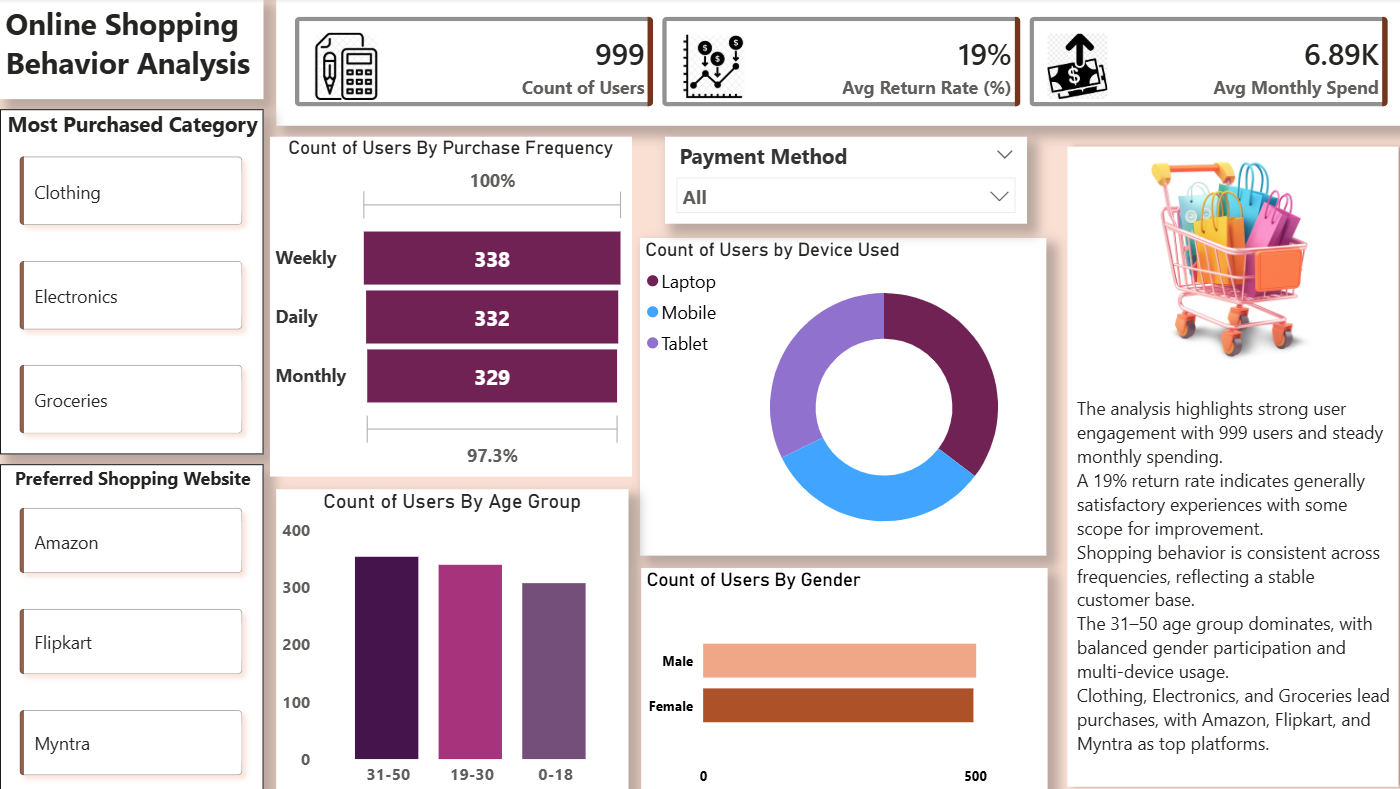

Layout of this report page (visuals, bound fields, positions):
{"tool":"powerbi","page":{"name":"Page 1","canvas":[1280,720],"ordinal":0},"visuals":[{"type":"textbox","box":[0,0,237.5,91.2],"z":0},{"type":"cardVisual","fields":{"Data":["CountNonNull(shoppingdata.User ID)","Avg(shoppingdata.Return Rate (%))","Avg(shoppingdata.Avg Spend Clean)"]},"box":[248.8,0,1021.2,115],"z":1000},{"type":"advancedSlicerVisual","fields":{"Values":["shoppingdata.Most Purchased Category"]},"box":[0,100,237.5,311.2],"z":2000},{"type":"advancedSlicerVisual","fields":{"Values":["shoppingdata.Preferred Shopping Website"]},"box":[0,420,237.5,300],"z":3000},{"type":"donutChart","title":" Device Used By Users","fields":{"Category":["shoppingdata.Device Used"],"Y":["CountNonNull(shoppingdata.User ID)"]},"box":[577.5,216.2,366.2,286.2],"z":4000},{"type":"clusteredColumnChart","title":" Age Group Of Users","fields":{"Category":["shoppingdata.Age Group"],"Y":["CountNonNull(shoppingdata.User ID)"]},"box":[248.8,442.5,317.5,277.5],"z":5000},{"type":"clusteredBarChart","title":"Users By Gender","fields":{"Category":["shoppingdata.Gender"],"Y":["CountNonNull(shoppingdata.User ID)"]},"box":[578.8,513.8,366.2,206.2],"z":6000},{"type":"slicer","fields":{"Values":["shoppingdata.Payment Method"]},"box":[600,125,326.2,78.8],"z":7000},{"type":"funnel","title":"Purchase Frequency Of Users","fields":{"Category":["shoppingdata.Purchase Frequency"],"Y":["CountNonNull(shoppingdata.User ID)"]},"box":[243.8,125,326.2,306.2],"z":8000},{"type":"shape","box":[953.8,125,316.2,595],"z":9000},{"type":"image","box":[995,136.2,233.8,200],"z":10000},{"type":"textbox","box":[966.2,336.2,292.5,371.2],"z":11000}]}

Visuals, with their boxes in screenshot pixels (x1, y1, x2, y2), scaled from the page's 1280x720 canvas onto the 1400x789 screenshot:
textbox: l=0, t=0, r=260, b=100
cardVisual - CountNonNull(shoppingdata.User ID) x Avg(shoppingdata.Return Rate (%)): l=272, t=0, r=1389, b=126
advancedSlicerVisual - shoppingdata.Most Purchased Category: l=0, t=110, r=260, b=451
advancedSlicerVisual - shoppingdata.Preferred Shopping Website: l=0, t=460, r=260, b=788
" Device Used By Users" donutChart: l=632, t=237, r=1032, b=551
" Age Group Of Users" clusteredColumnChart: l=272, t=485, r=619, b=788
"Users By Gender" clusteredBarChart: l=633, t=563, r=1034, b=788
slicer - shoppingdata.Payment Method: l=656, t=137, r=1013, b=223
"Purchase Frequency Of Users" funnel: l=267, t=137, r=623, b=473
shape: l=1043, t=137, r=1389, b=788
image: l=1088, t=149, r=1344, b=368
textbox: l=1057, t=368, r=1377, b=775
